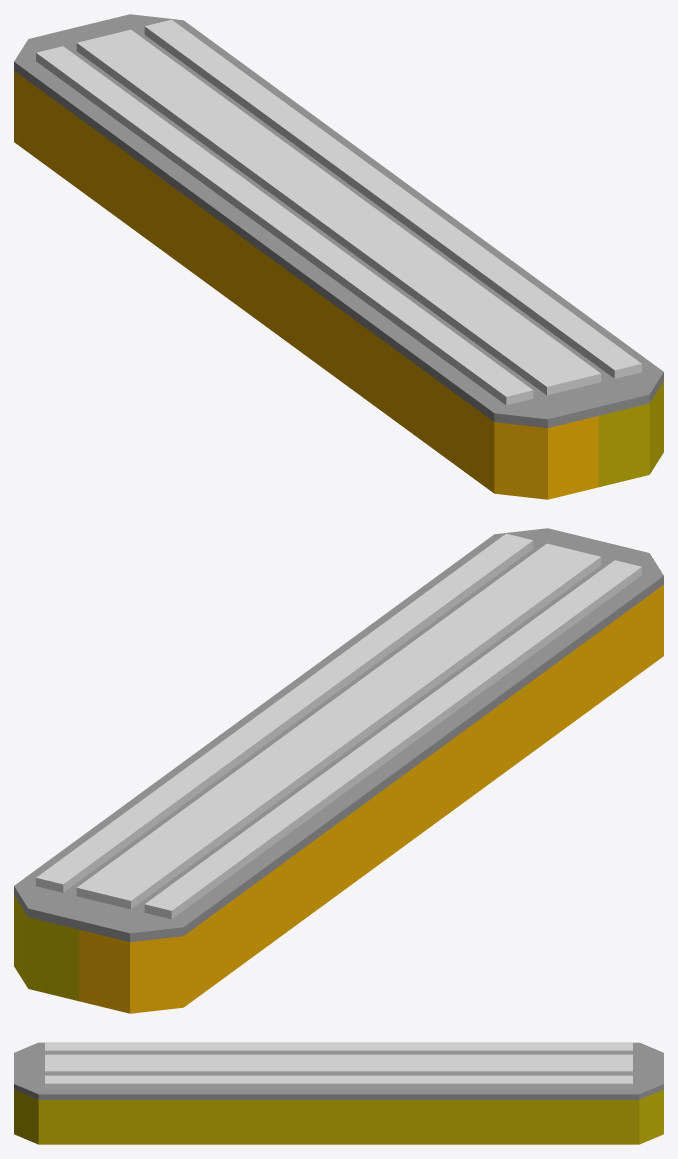
Rendered from mpe_maglock_1x2.dae.
3 views of the same model, one above another, from view 1: azimuth 30°, elevation 25°; view 2: azimuth 150°, elevation 25°; view 3: azimuth 270°, elevation 25° (orthographic). The views are drawn at different scales.
Parts seen in each view (by area): view 1: maglock_1x2; view 2: maglock_1x2; view 3: maglock_1x2.
Boxes of the visible parts, x1=… form: maglock_1x2: x1=14, y1=14, x2=663, y2=499; maglock_1x2: x1=14, y1=528, x2=663, y2=1013; maglock_1x2: x1=14, y1=1042, x2=663, y2=1144.
Size of the model in its own units: 0.1 by 0.5304 by 0.0501.
